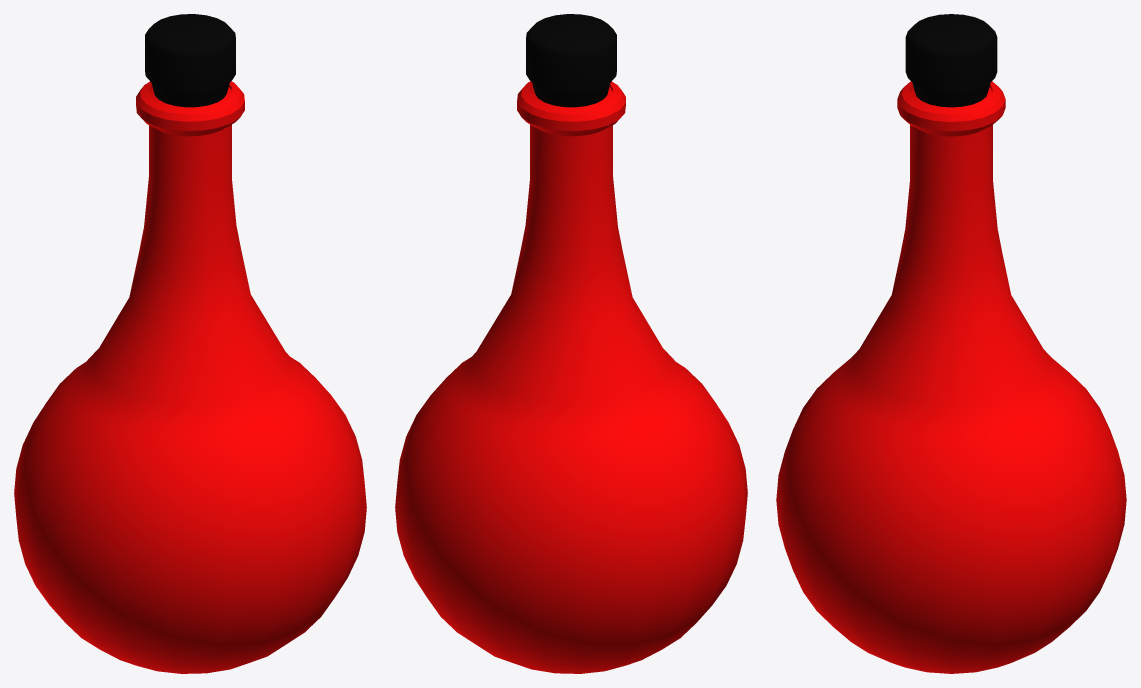
The model's file is redp.glb.
The picture shows the model from 3 angles, left to right: view 1: azimuth 30°, elevation 25°; view 2: azimuth 150°, elevation 25°; view 3: azimuth 270°, elevation 25°; orthographic projection.
Visible parts, largest first — view 1: pSphere1, pCylinder1; view 2: pSphere1, pCylinder1; view 3: pSphere1, pCylinder1.
Boxes of the visible parts, x1,y1,x2,y2 form: pSphere1: (14, 81, 366, 673); pCylinder1: (145, 14, 235, 107); pSphere1: (395, 81, 747, 673); pCylinder1: (526, 14, 616, 107); pSphere1: (776, 81, 1126, 673); pCylinder1: (905, 14, 997, 107).
Bounding box in the file's own units: 0.0644 × 0.1249 × 0.0633.
